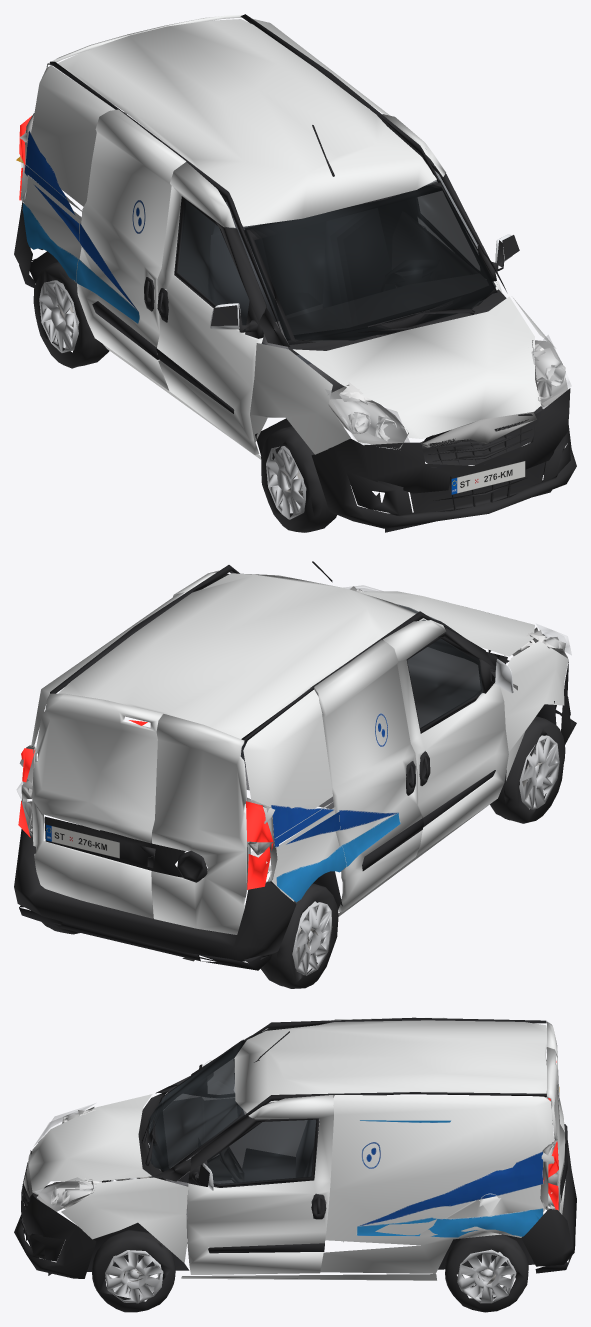
File: mali-kombi_lod2.glb
3 renders of one model, top to bottom at view 1: azimuth 30°, elevation 25°; view 2: azimuth 150°, elevation 25°; view 3: azimuth 270°, elevation 25°, orthographic. The views are drawn at different scales.
Parts seen in each view (by area): view 1: body, windscreen_glass, windscreen_fx, door_R, door_slide_R, wheel_2_mesh, firm_marking_R, wheel_0_mesh, door_L, plate_front, steering_m; view 2: body, door_rear_L, door_R, door_rear_R, door_slide_R, firm_marking_R, wheel_2_mesh, wheel_0_mesh, plate_rear; view 3: body, door_L, windscreen_glass, windscreen_fx, firm_marking_L, wheel_3_mesh, wheel_1_mesh, door_rear_L, steering_m, door_rear_R, door_R.
Part boxes in pixels (box(x1,y1,x2,y2)): body: box(14, 14, 576, 532); windscreen_glass: box(245, 180, 496, 340); windscreen_fx: box(244, 181, 495, 340); door_R: box(156, 162, 266, 454); door_slide_R: box(77, 109, 186, 390); wheel_2_mesh: box(261, 426, 336, 532); firm_marking_R: box(22, 131, 145, 323); wheel_0_mesh: box(33, 262, 109, 368); door_L: box(382, 114, 503, 292); plate_front: box(451, 460, 525, 494); steering_m: box(381, 260, 439, 291); body: box(14, 561, 576, 970); door_rear_L: box(32, 693, 162, 918); door_R: box(383, 620, 508, 856); door_rear_R: box(151, 714, 247, 934); door_slide_R: box(314, 640, 423, 912); firm_marking_R: box(271, 713, 400, 902); wheel_2_mesh: box(490, 716, 565, 823); wheel_0_mesh: box(260, 883, 338, 988); plate_rear: box(46, 824, 119, 858); body: box(14, 1017, 576, 1284); door_L: box(187, 1095, 333, 1274); windscreen_glass: box(148, 1039, 244, 1170); windscreen_fx: box(149, 1040, 244, 1170); firm_marking_L: box(356, 1120, 543, 1237); wheel_3_mesh: box(92, 1230, 175, 1312); wheel_1_mesh: box(445, 1234, 528, 1312); door_rear_L: box(547, 1047, 565, 1214); steering_m: box(207, 1147, 244, 1182); door_rear_R: box(546, 1021, 567, 1146); door_R: box(189, 1020, 330, 1098).
Bounding box in the file's own units: 2.17 × 2.02 × 4.39.
22 materials, 3 textured.
